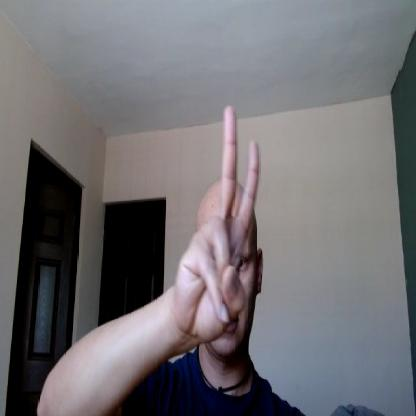V: (178, 102, 260, 346)
